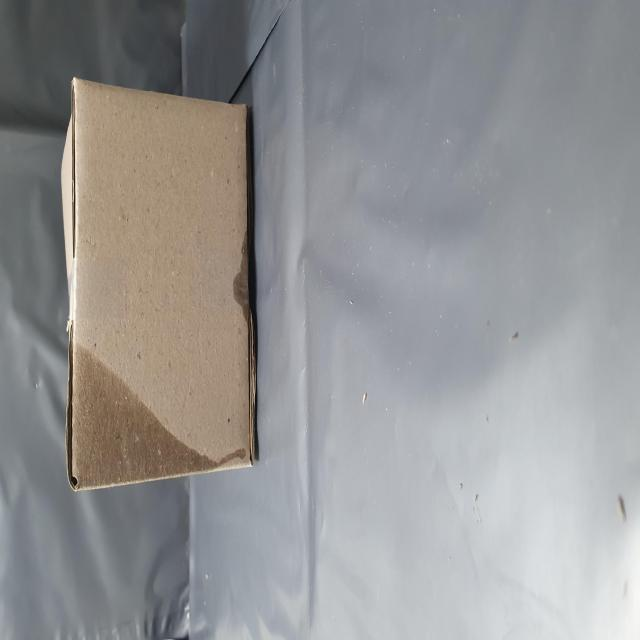wet: (85, 119, 174, 448)
